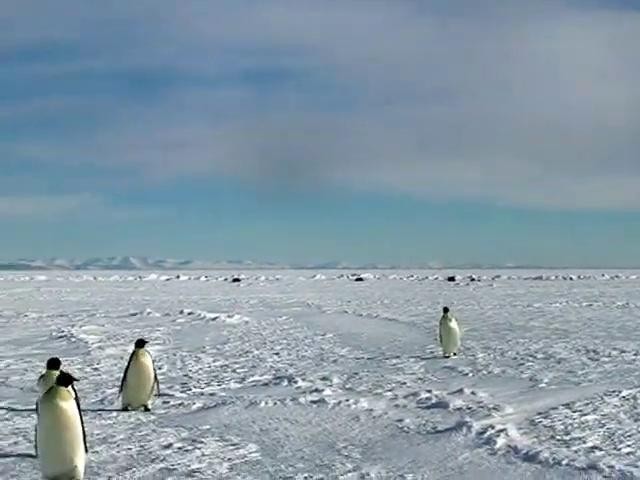animal: (119, 338, 158, 410)
